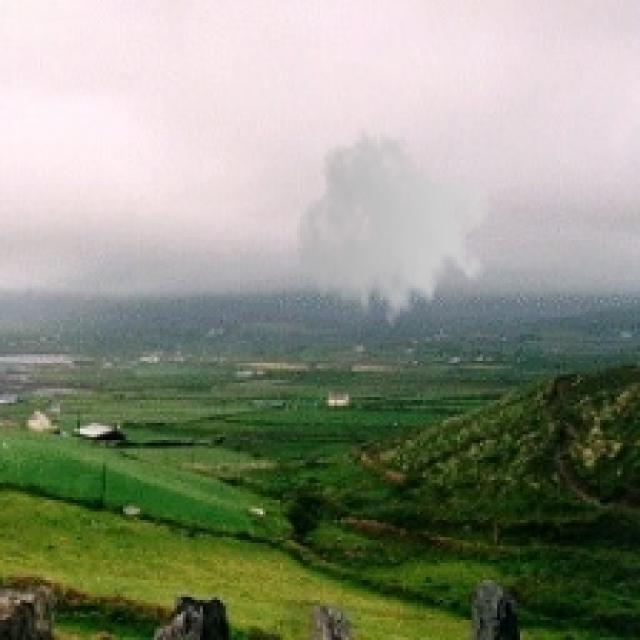Smoke: (294, 126, 494, 340)
